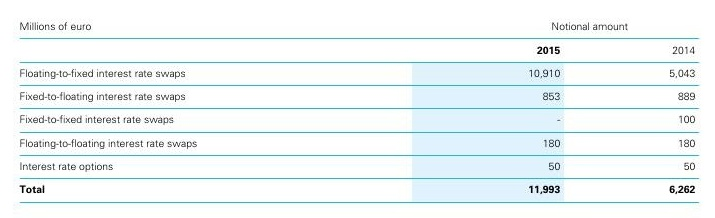table: (0, 0, 715, 218)
